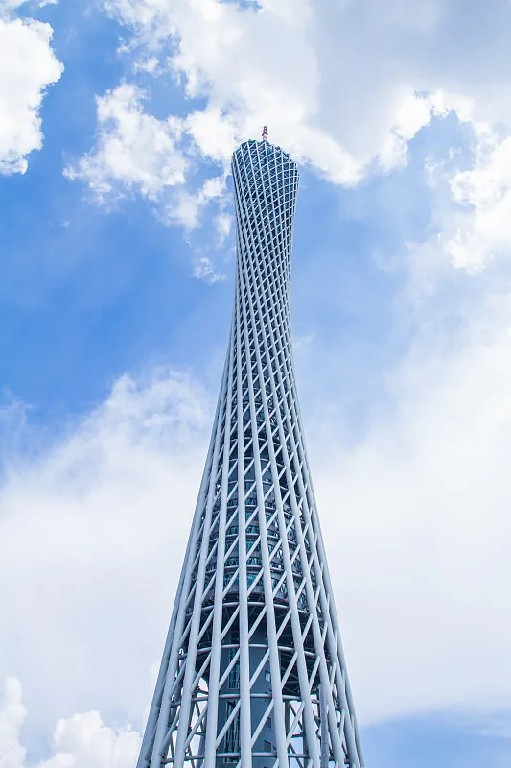Canton: (135, 106, 384, 768)
